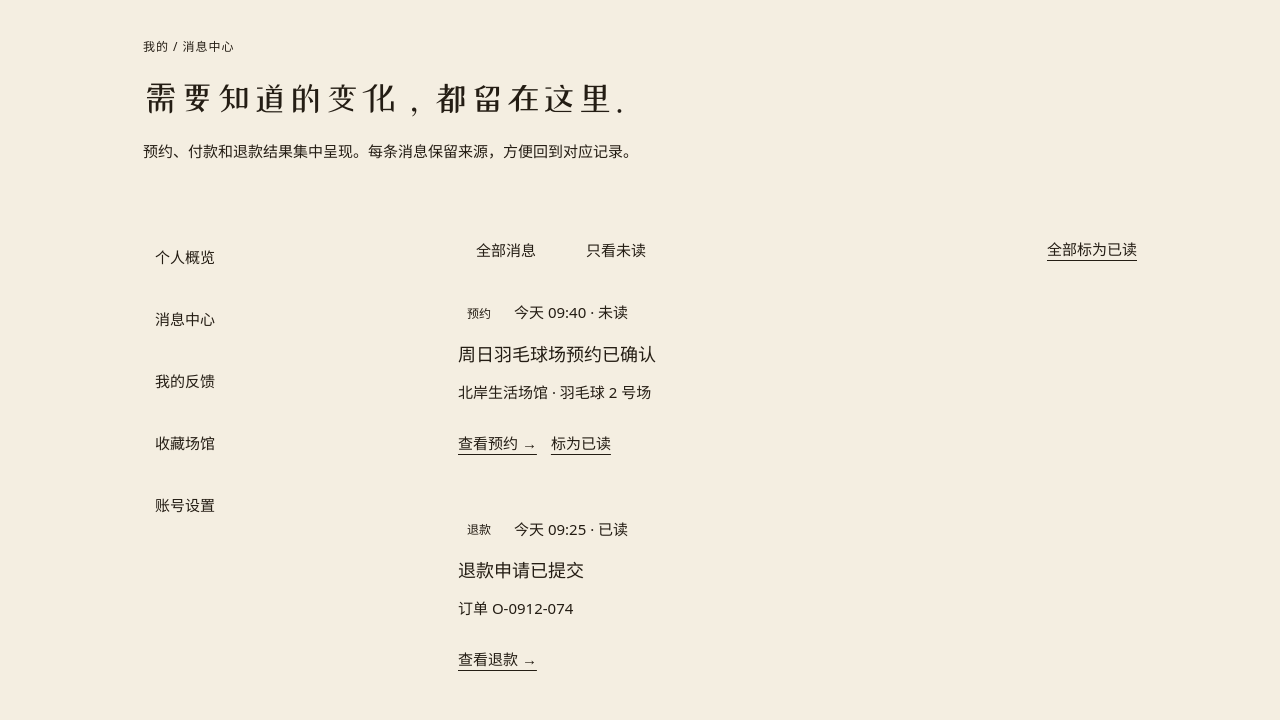
Test: ShiguangPersonalView › filters the message list to unread when only-unread is active
The image size is (1280, 720).
Click the button with test id "filter-unread".
click(616, 251)  # box [568,227,664,275]
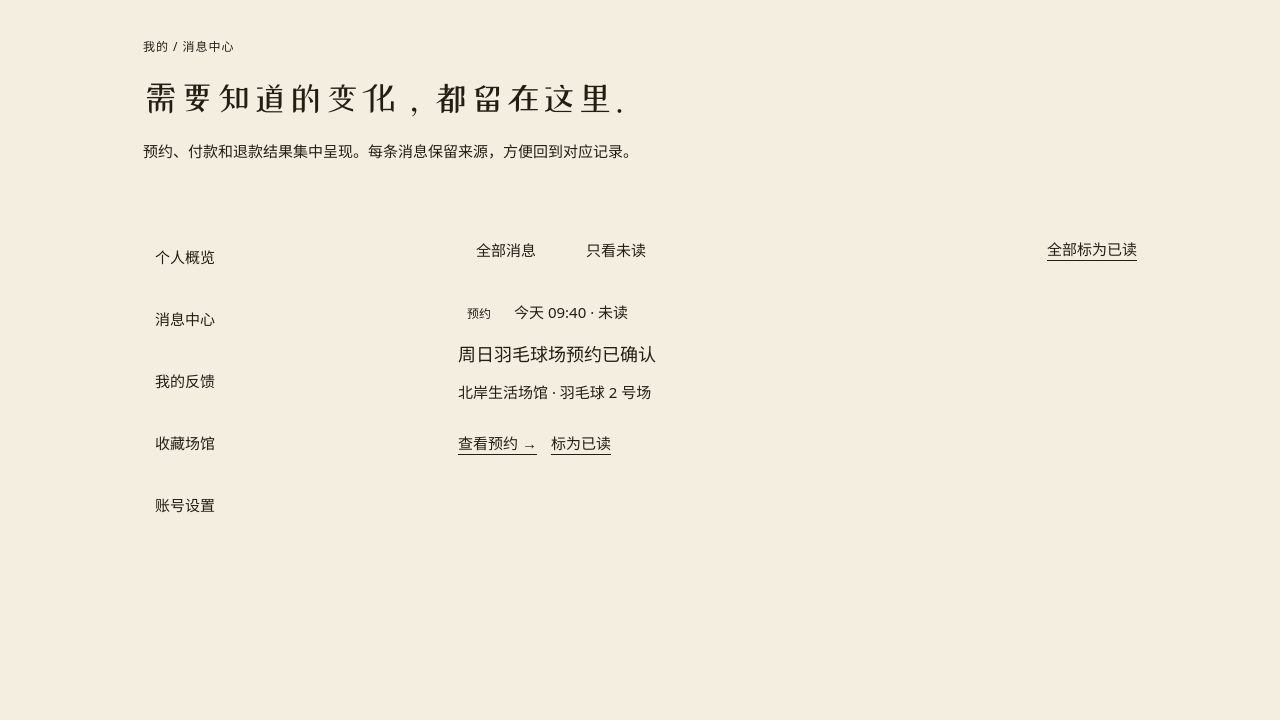
Expected: the text "周日羽毛球场预约已确认" is shown, [458,342,656,366]
Result: the text "退款申请已提交" is gone
Click the button with test id "filter-all".
click(506, 251)  # box [458,227,554,275]
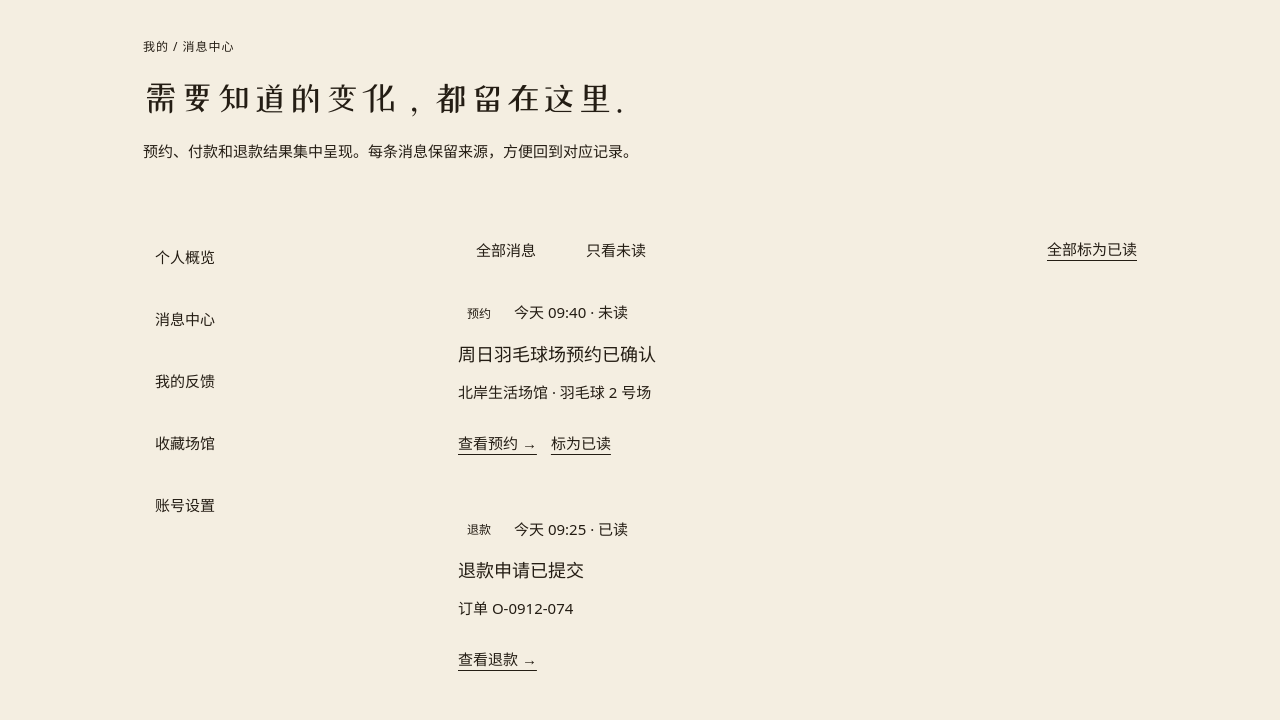
Result: the text "退款申请已提交" is shown at [458,558,584,582]
